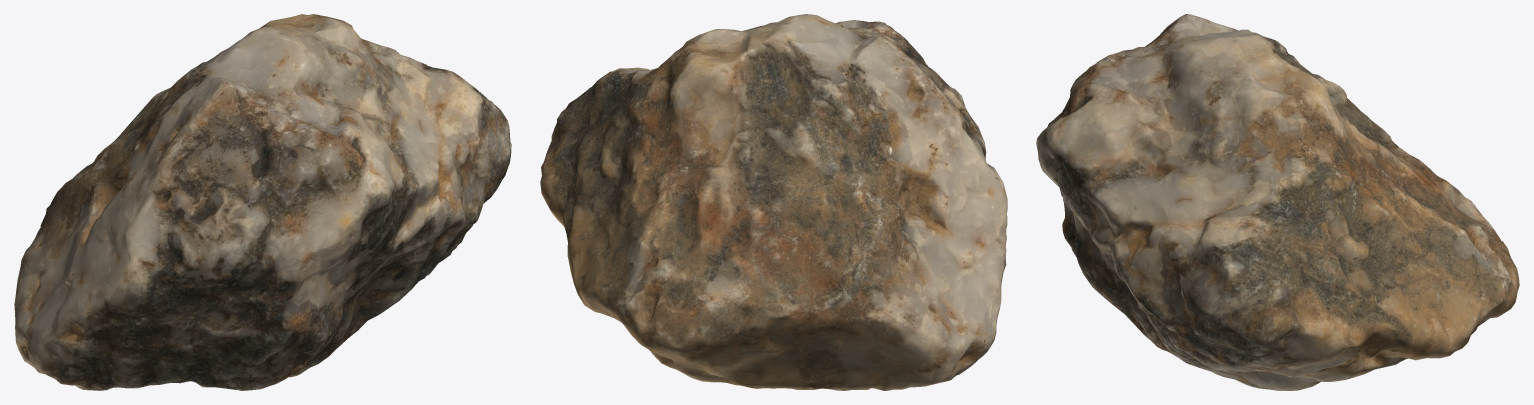
The model's file is rock.glb.
3 views of the same model, side by side, from view 1: azimuth 30°, elevation 25°; view 2: azimuth 150°, elevation 25°; view 3: azimuth 270°, elevation 25° (orthographic). The views are drawn at different scales.
Visible parts, largest first — view 1: Rock; view 2: Rock; view 3: Rock.
Part boxes in pixels (bbox=[...]): Rock: bbox=[14, 14, 511, 390]; Rock: bbox=[540, 14, 1007, 390]; Rock: bbox=[1036, 14, 1519, 390].
Size of the model in its own units: 5.36 by 3.53 by 4.69.
1 material, 1 textured.
